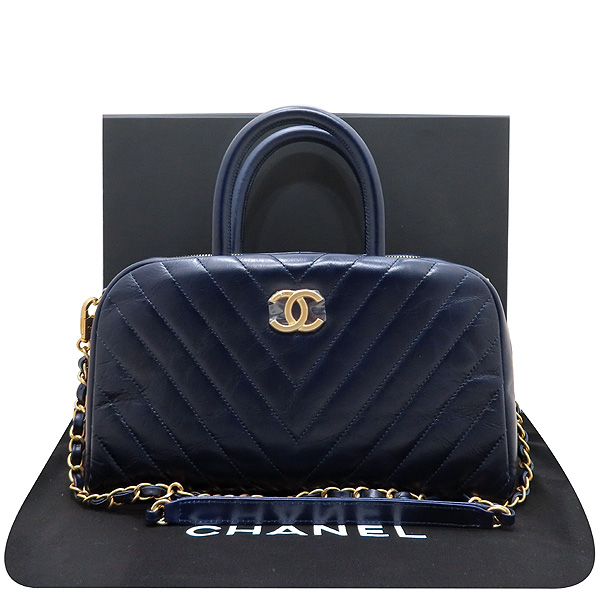channel: (37, 71, 560, 541), (63, 329, 104, 501), (266, 287, 351, 347)
